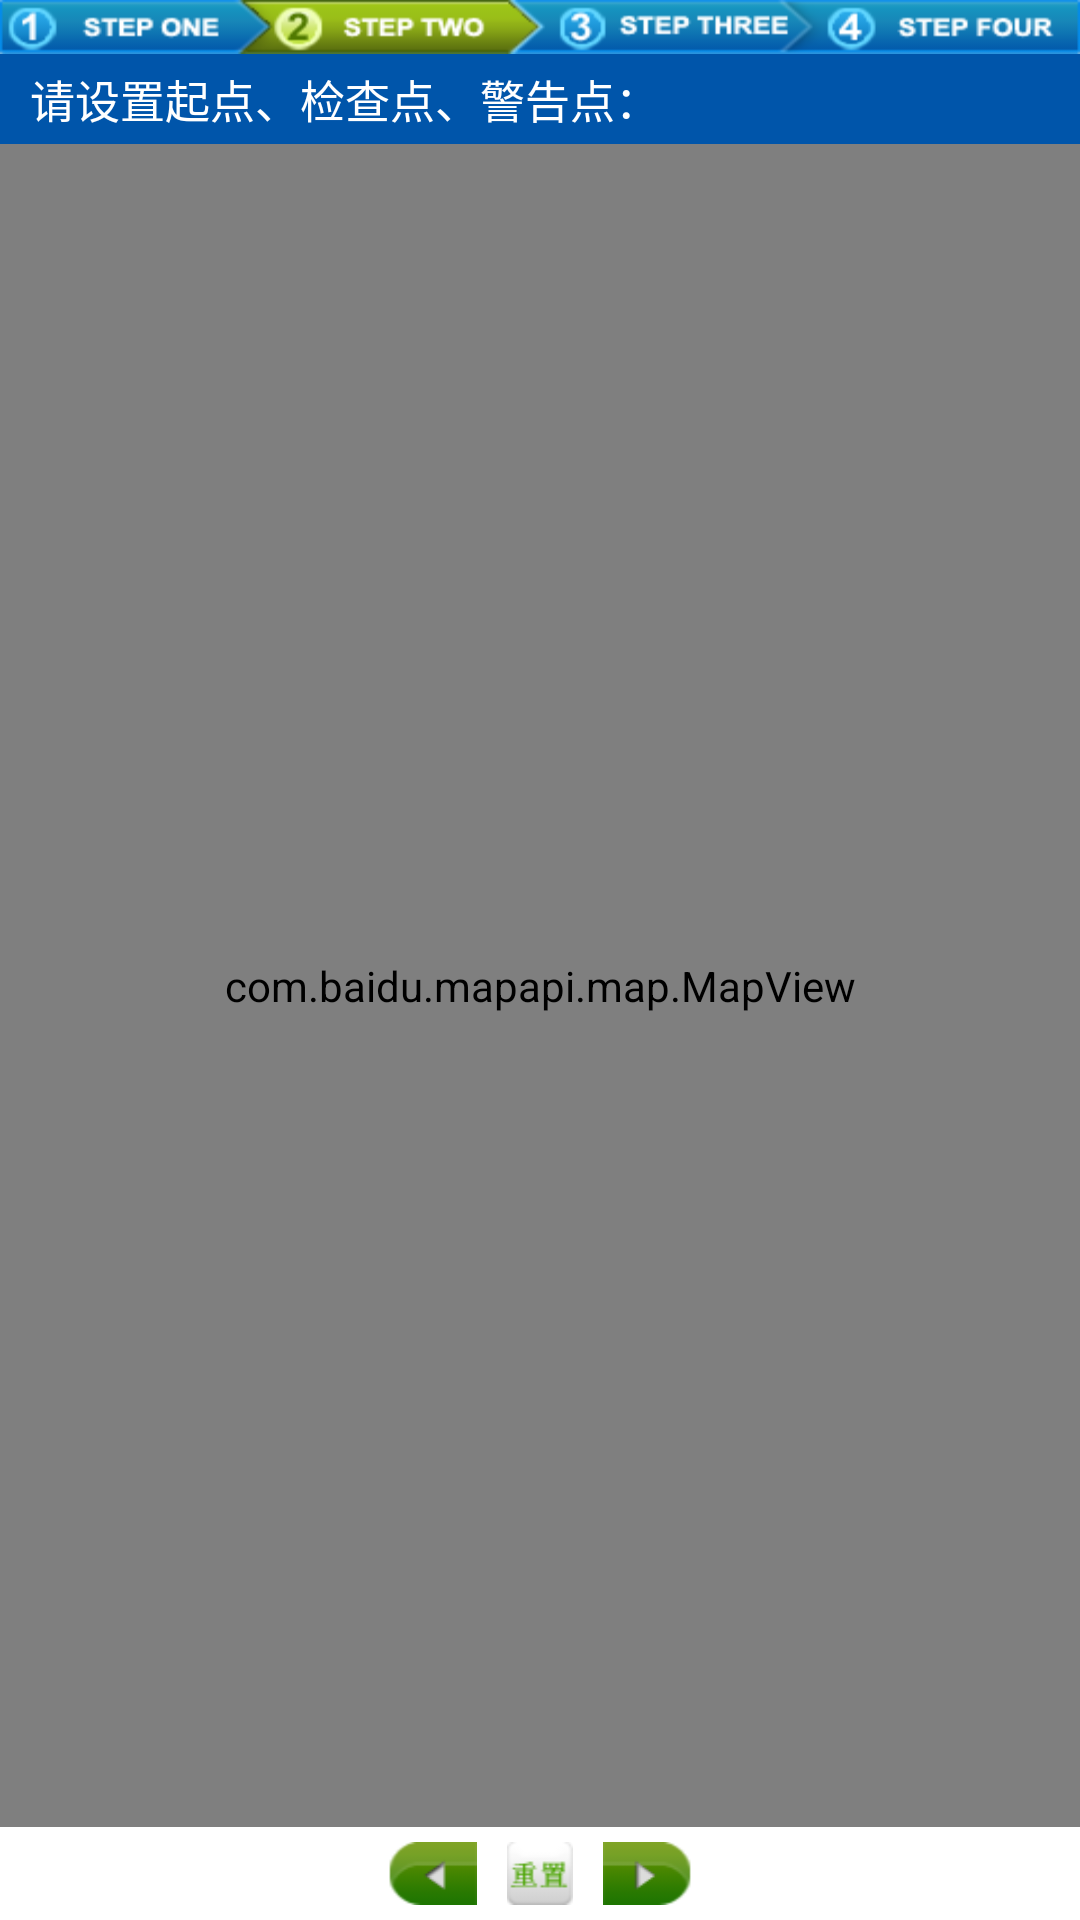

Where to tap for icons on this 1080px x 1920px app screen, as (x=x, y=y):
nextbutton: (x=647, y=1873)
pastbutton: (x=433, y=1873)
